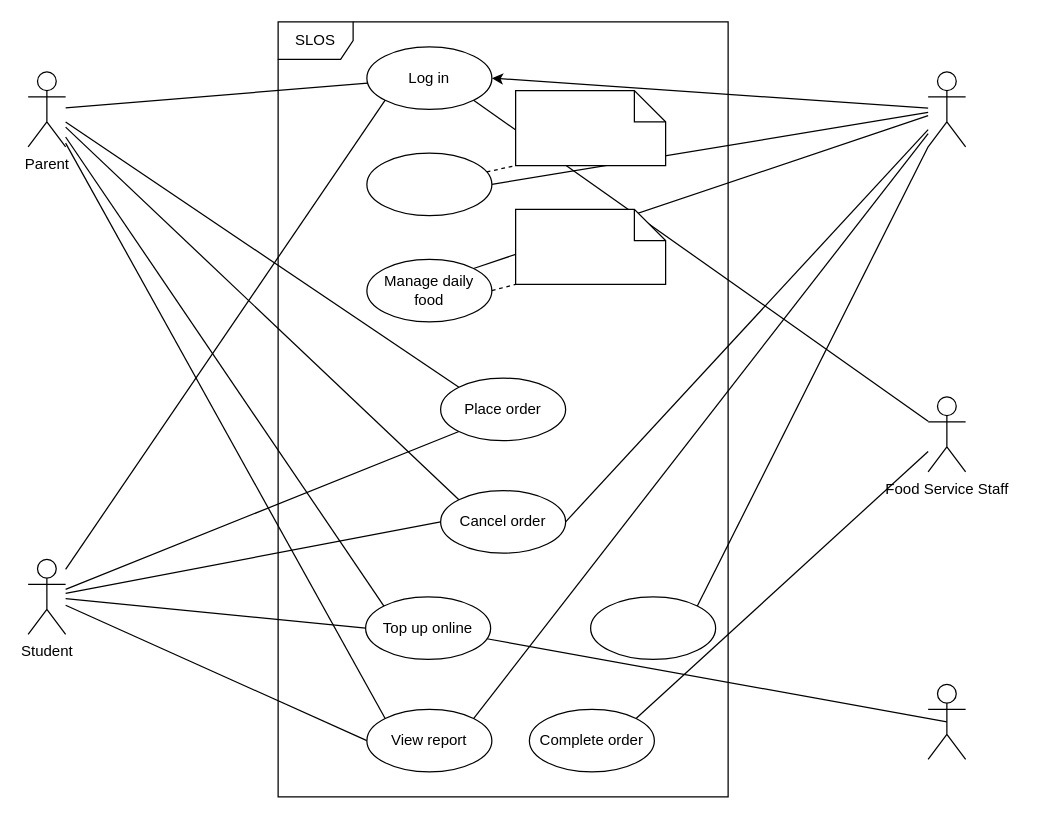
This 1041x819 diagram has some shape labels left out. The centre of each missing label's shape, as x and y in pixels:
"Add/Remove food item" belongs at point 590,246.
"Create/Update/Delete food item" belongs at point 590,127.
"Manage food item" belongs at point 429,184.
"Online payment portal" belongs at point 946,721.
"School Administrator" belongs at point 946,109.
"Top up manually" belongs at point 652,627.
